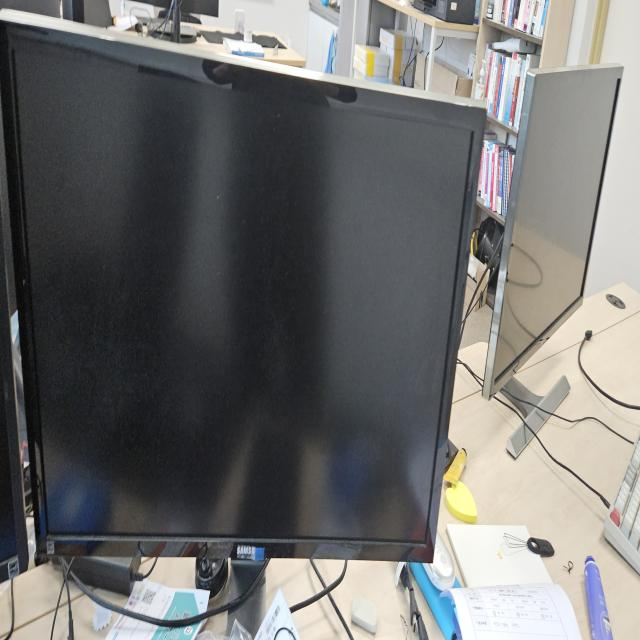Keyboard: (603, 429, 639, 576)
Monitor: (2, 8, 488, 591)
